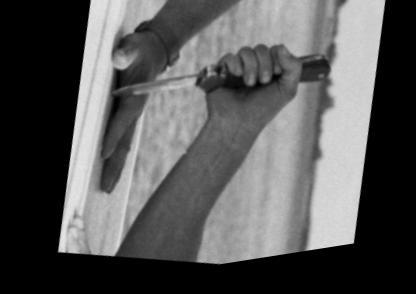knife: (99, 16, 283, 147)
